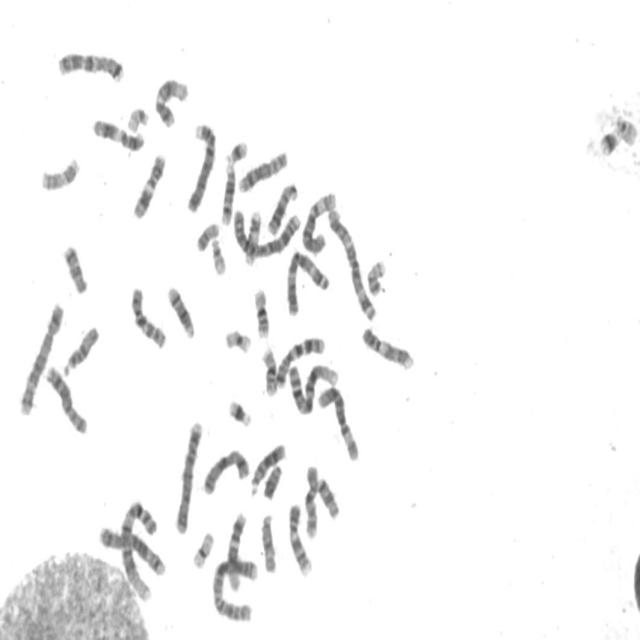A1: (117, 493, 160, 603), (284, 358, 340, 416)
A2: (228, 200, 303, 260), (210, 550, 260, 624)
A3: (324, 202, 378, 322), (282, 244, 331, 317)
B4: (171, 414, 204, 536), (183, 117, 218, 214)
B5: (15, 295, 66, 417), (94, 520, 168, 578)
C10: (126, 280, 168, 351), (301, 458, 320, 541)
C11: (129, 147, 167, 221), (89, 112, 146, 152)
C12: (151, 71, 190, 129), (224, 507, 248, 592)
C6: (314, 380, 361, 463), (298, 186, 338, 256)
C7: (273, 332, 327, 388), (54, 45, 125, 84)
C8: (42, 359, 89, 436), (235, 144, 289, 194)
C9: (358, 320, 416, 371), (284, 498, 314, 578)
D13: (246, 437, 287, 498), (264, 176, 300, 238)
D14: (163, 280, 196, 340), (217, 155, 237, 227)
D15: (59, 319, 100, 377), (257, 508, 278, 574)
E16: (250, 282, 271, 340), (258, 342, 279, 397)
E17: (37, 150, 81, 192), (241, 204, 264, 266)
E18: (59, 238, 89, 295), (314, 471, 341, 521)
F19: (188, 526, 216, 570), (220, 322, 252, 355)
F20: (363, 253, 388, 298), (192, 216, 221, 253)
G21: (224, 392, 253, 430), (222, 133, 250, 165)
G22: (611, 109, 638, 147), (124, 100, 150, 134)
X: (198, 442, 251, 497)
Y: (260, 459, 284, 501)
